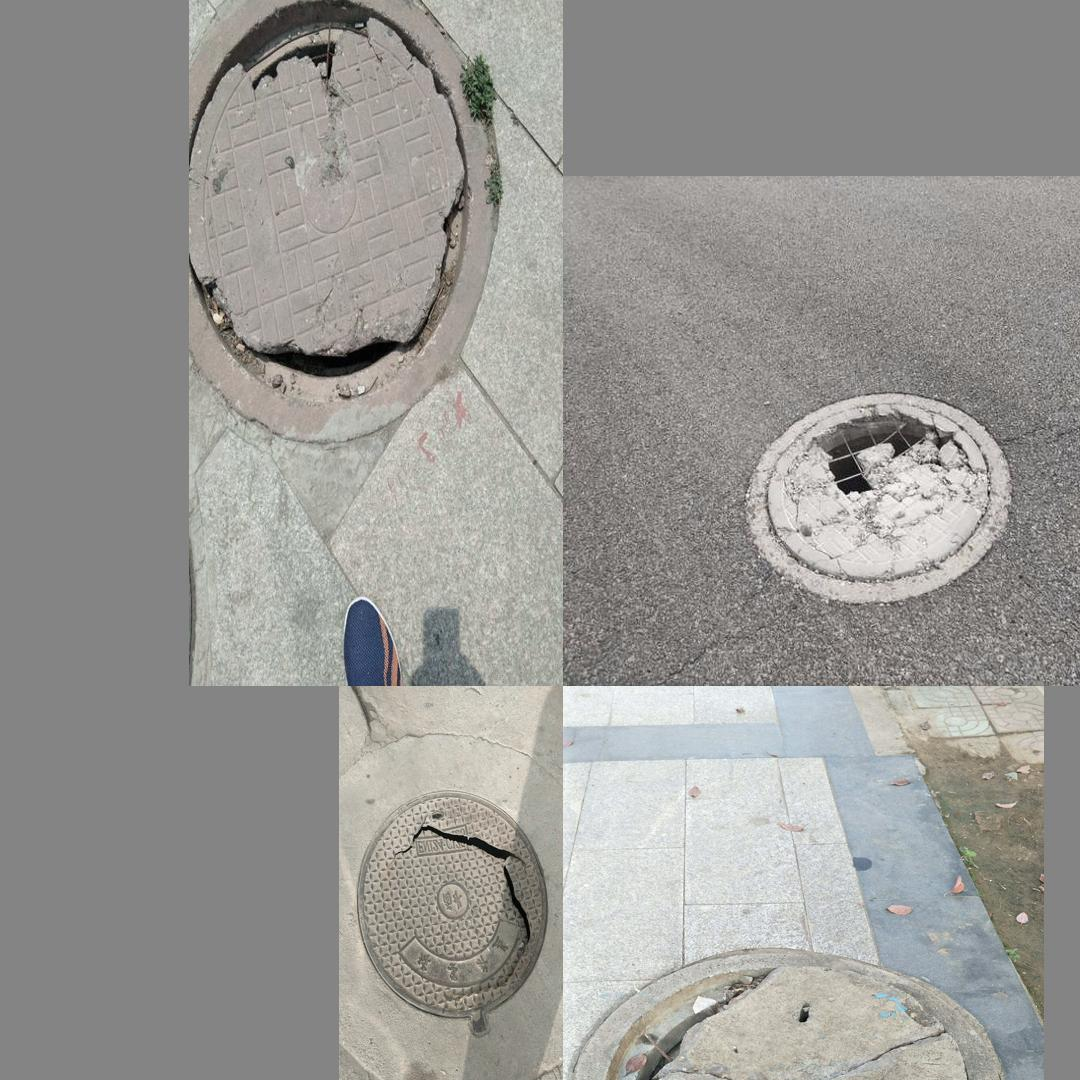broke: (189, 0, 503, 450), (341, 755, 556, 1077), (739, 388, 1014, 609), (566, 949, 1003, 1080)
